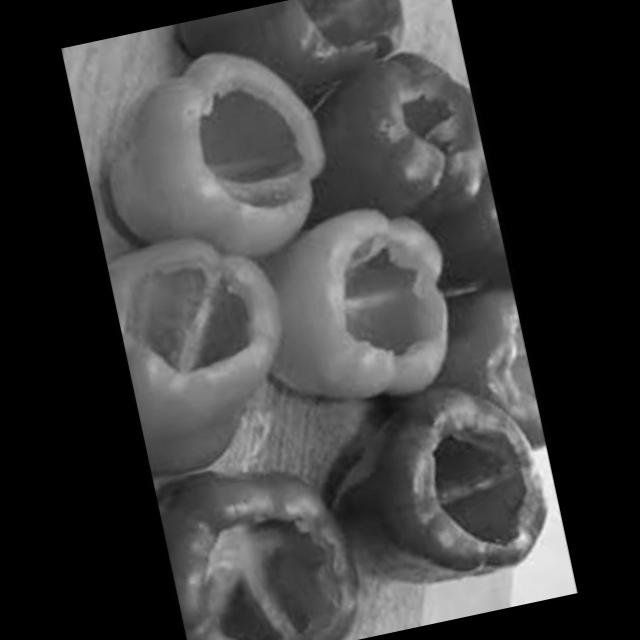bell pepper: (70, 33, 356, 290), (250, 182, 487, 446), (312, 370, 570, 612), (106, 213, 310, 490), (302, 24, 508, 288), (155, 444, 382, 640), (395, 262, 550, 476), (172, 0, 424, 116)
